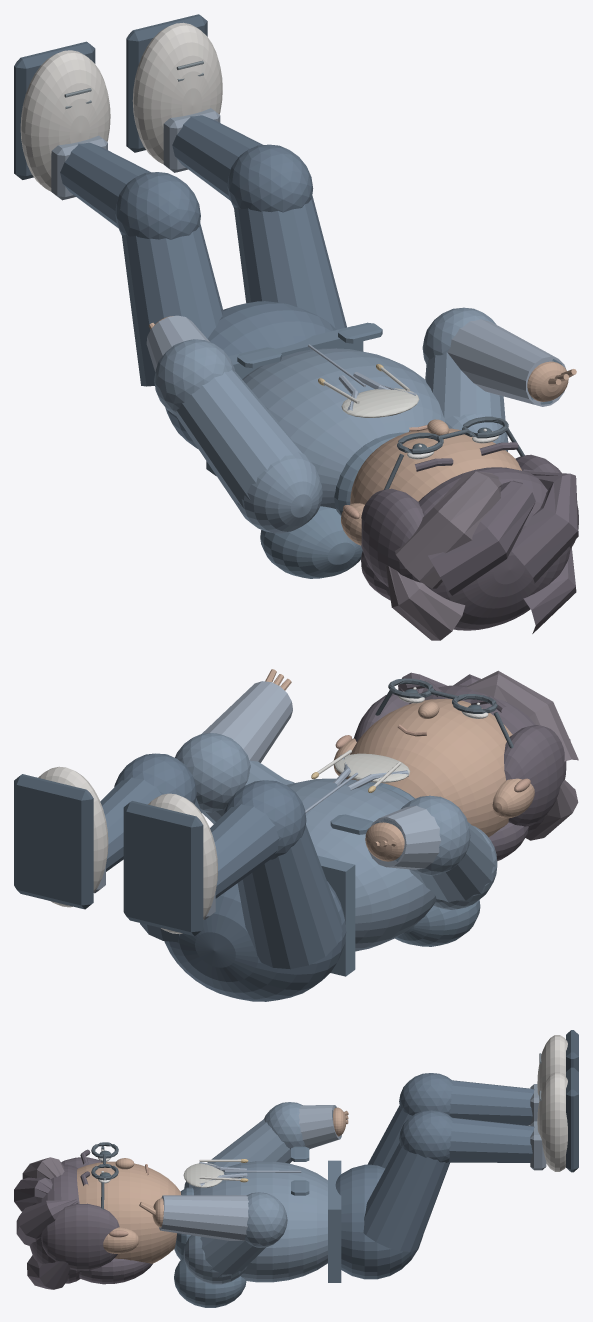
File: ops_alert_0.glb
The picture shows the model from 3 angles, top to bottom: view 1: azimuth 30°, elevation 25°; view 2: azimuth 150°, elevation 25°; view 3: azimuth 270°, elevation 25°; orthographic projection. The views are drawn at different scales.
Visible parts, largest first — view 1: 0000__hoodie_main_torso, 0065__jeans_thigh, 0046__jeans_thigh, 0057__sleeve_upper, 0050__sneaker, 0069__sneaker, 0022__hair_crown, 0017__face_head, 0026__hair_lock_0, 0078__sleeve_forearm, 0027__hair_lock_1, 0014__pants_pelvis (+22 smaller); view 2: 0017__face_head, 0000__hoodie_main_torso, 0051__rubber_sole, 0046__jeans_thigh, 0070__rubber_sole, 0014__pants_pelvis, 0024__temple_side, 0048__jeans_shin, 0077__elbow_fold, 0078__sleeve_forearm, 0047__knee_fold, 0057__sleeve_upper (+21 smaller); view 3: 0000__hoodie_main_torso, 0065__jeans_thigh, 0017__face_head, 0014__pants_pelvis, 0025__temple_side, 0078__sleeve_forearm, 0067__jeans_shin, 0048__jeans_shin, 0069__sneaker, 0066__knee_fold, 0057__sleeve_upper, 0077__elbow_fold (+21 smaller).
Part boxes in pixels (left/top/right/bottom): 0000__hoodie_main_torso: left=242, top=348, right=444, bottom=508; 0065__jeans_thigh: left=234, top=196, right=346, bottom=329; 0046__jeans_thigh: left=121, top=222, right=223, bottom=386; 0057__sleeve_upper: left=176, top=370, right=303, bottom=509; 0050__sneaker: left=20, top=50, right=110, bottom=191; 0069__sneaker: left=132, top=22, right=222, bottom=164; 0022__hair_crown: left=418, top=467, right=570, bottom=630; 0017__face_head: left=350, top=428, right=521, bottom=504; 0026__hair_lock_0: left=395, top=471, right=501, bottom=588; 0078__sleeve_forearm: left=447, top=319, right=566, bottom=406; 0027__hair_lock_1: left=428, top=480, right=535, bottom=595; 0014__pants_pelvis: left=165, top=301, right=336, bottom=448; 0017__face_head: left=346, top=698, right=512, bottom=837; 0000__hoodie_main_torso: left=286, top=778, right=436, bottom=951; 0051__rubber_sole: left=123, top=801, right=203, bottom=936; 0046__jeans_thigh: left=237, top=825, right=342, bottom=969; 0070__rubber_sole: left=14, top=774, right=93, bottom=909; 0014__pants_pelvis: left=164, top=881, right=346, bottom=1001; 0024__temple_side: left=504, top=725, right=566, bottom=826; 0048__jeans_shin: left=210, top=804, right=279, bottom=898; 0077__elbow_fold: left=175, top=733, right=250, bottom=812; 0078__sleeve_forearm: left=202, top=681, right=292, bottom=762; 0047__knee_fold: left=224, top=780, right=306, bottom=859; 0057__sleeve_upper: left=409, top=822, right=495, bottom=902; 0000__hoodie_main_torso: left=193, top=1161, right=327, bottom=1282; 0065__jeans_thigh: left=363, top=1143, right=449, bottom=1251; 0017__face_head: left=77, top=1161, right=180, bottom=1263; 0014__pants_pelvis: left=335, top=1164, right=422, bottom=1279; 0025__temple_side: left=41, top=1203, right=119, bottom=1270; 0078__sleeve_forearm: left=159, top=1195, right=248, bottom=1240; 0067__jeans_shin: left=448, top=1117, right=534, bottom=1162; 0048__jeans_shin: left=449, top=1080, right=534, bottom=1125; 0069__sneaker: left=537, top=1072, right=567, bottom=1171; 0066__knee_fold: left=399, top=1110, right=452, bottom=1162; 0057__sleeve_upper: left=207, top=1119, right=291, bottom=1167; 0077__elbow_fold: left=245, top=1192, right=287, bottom=1247.
Bounding box in the file's own units: 0.82 × 0.8228 × 1.85.
